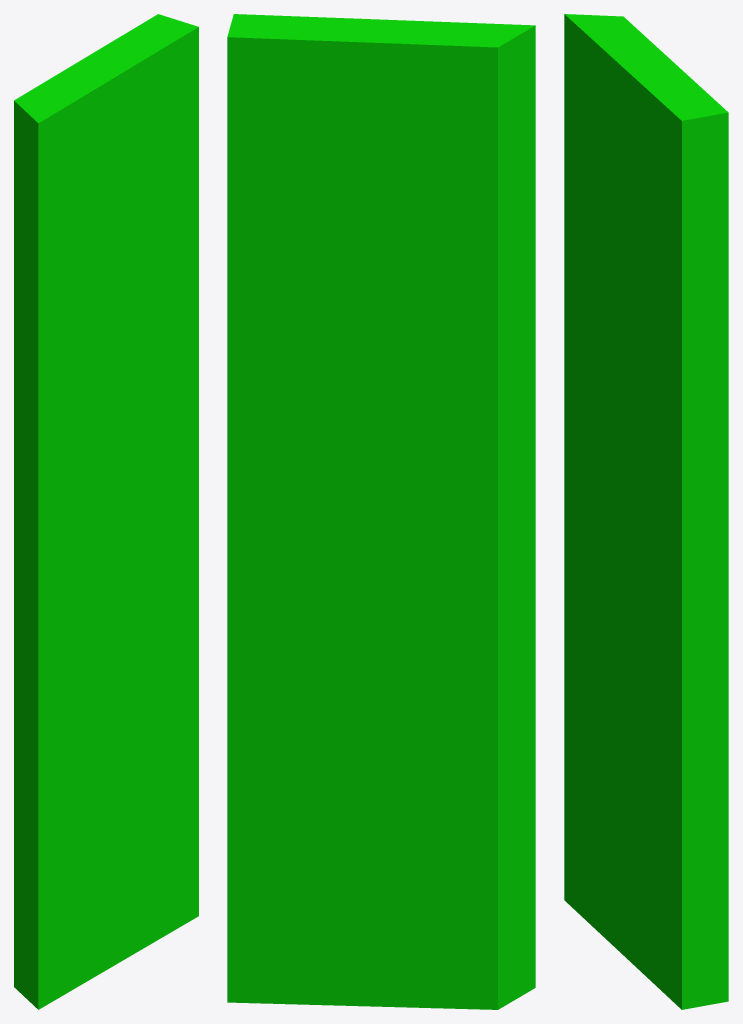
The picture shows the model from 3 angles, left to right: view 1: azimuth 30°, elevation 25°; view 2: azimuth 150°, elevation 25°; view 3: azimuth 270°, elevation 25°; orthographic projection. The views are drawn at different scales.
Parts seen in each view (by area): view 1: Plane.023; view 2: Plane.023; view 3: Plane.023.
Boxes of the visible parts, x1,y1,x2,y2 form: Plane.023: (14, 14, 198, 1009); Plane.023: (227, 14, 535, 1009); Plane.023: (564, 14, 728, 1009).
Bounding box in the file's own units: 549 × 2127 × 356.
